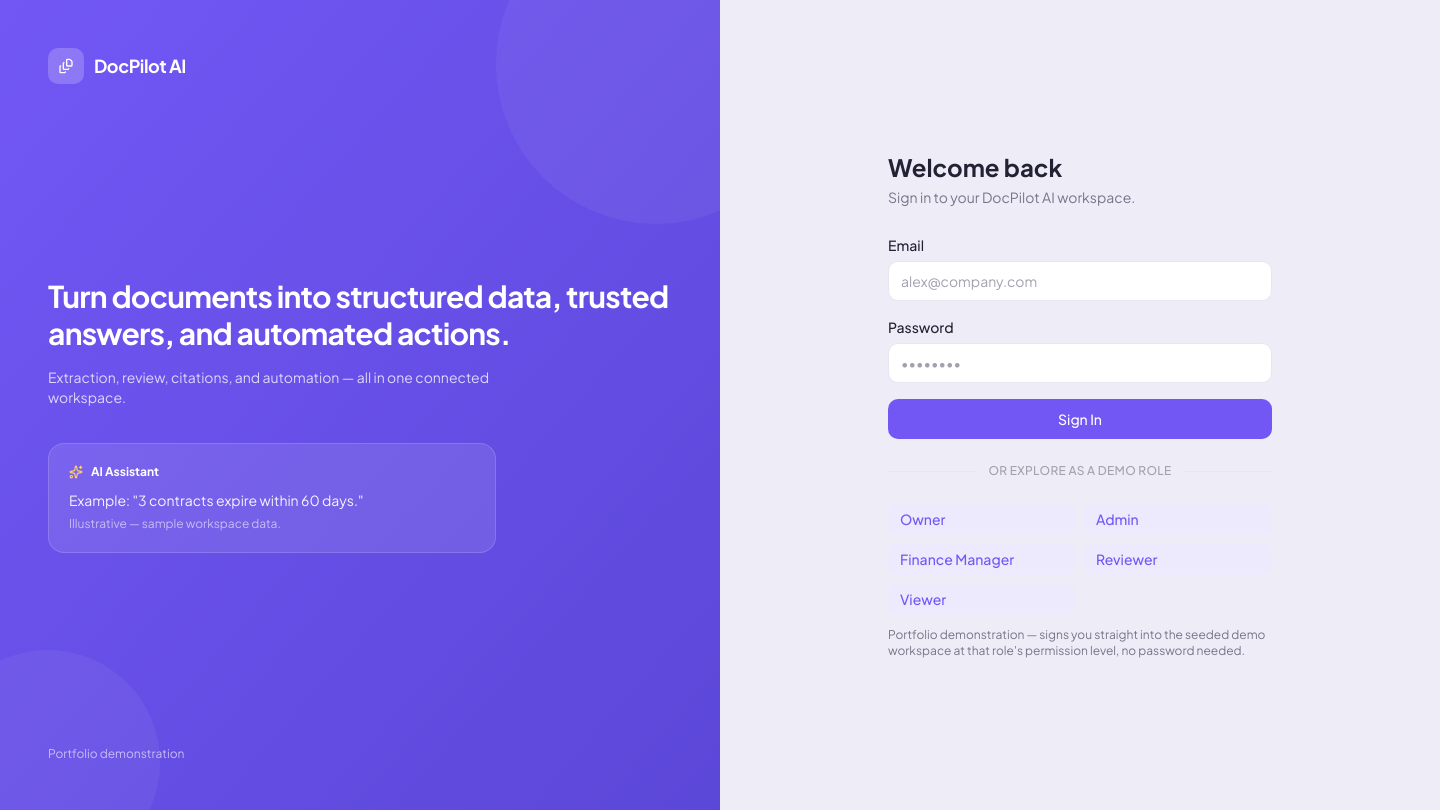
Test: SignInPage — submission › shows a specific message when the login endpoint is throttled
This screenshot has width=1440, height=810.
In the field labelled "Email": {"x": 1080, "y": 281} left=888, top=261, right=1272, bottom=301, type "owner@demo.docpilot.ai"
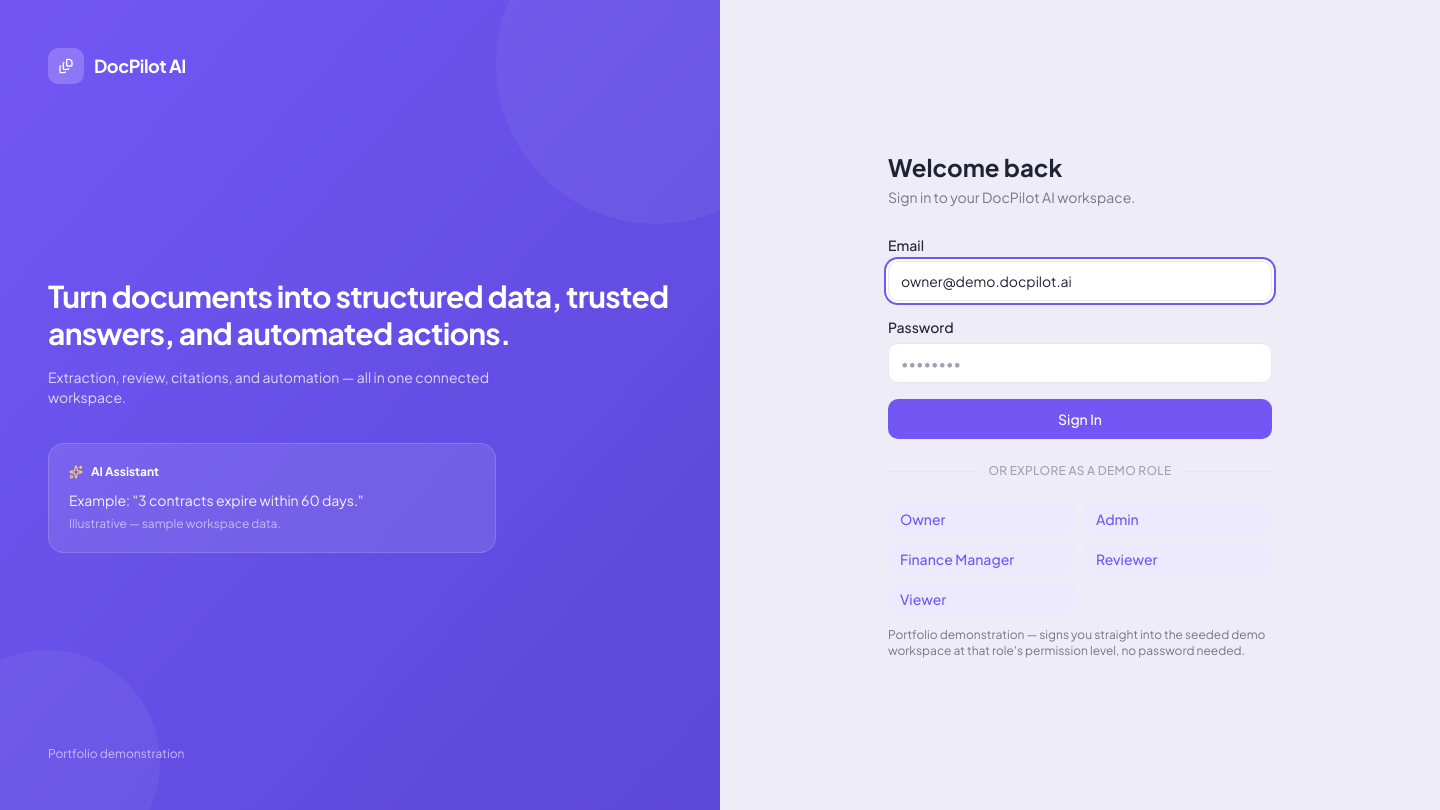
In the password field labelled "Password": {"x": 1080, "y": 363} left=888, top=343, right=1272, bottom=383, type "correct-password"
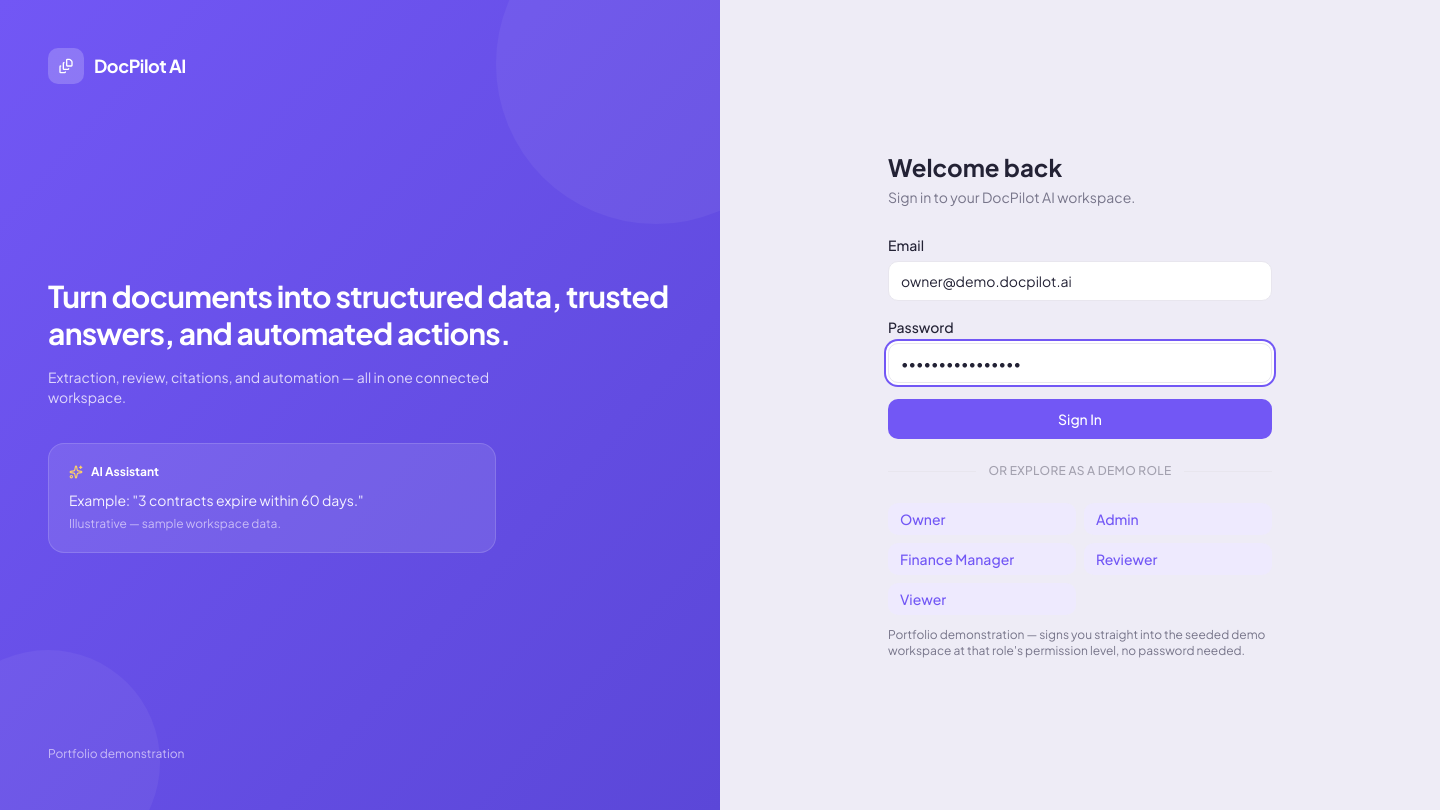
Click the button "Sign In": {"x": 1080, "y": 419} left=888, top=399, right=1272, bottom=439
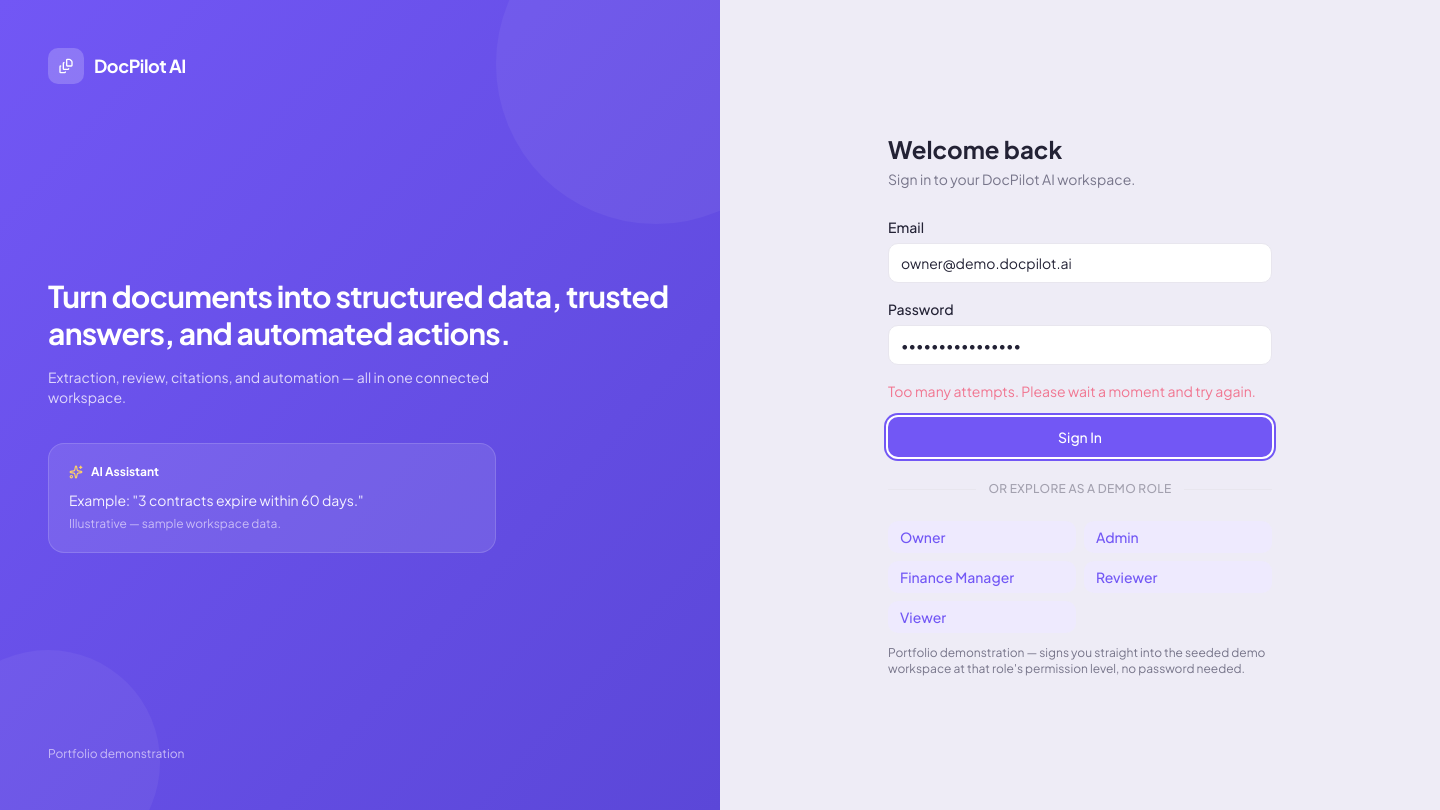
expect the text "Too many attempts. Please wait a moment and try again." is shown: met, box left=888, top=381, right=1272, bottom=401
